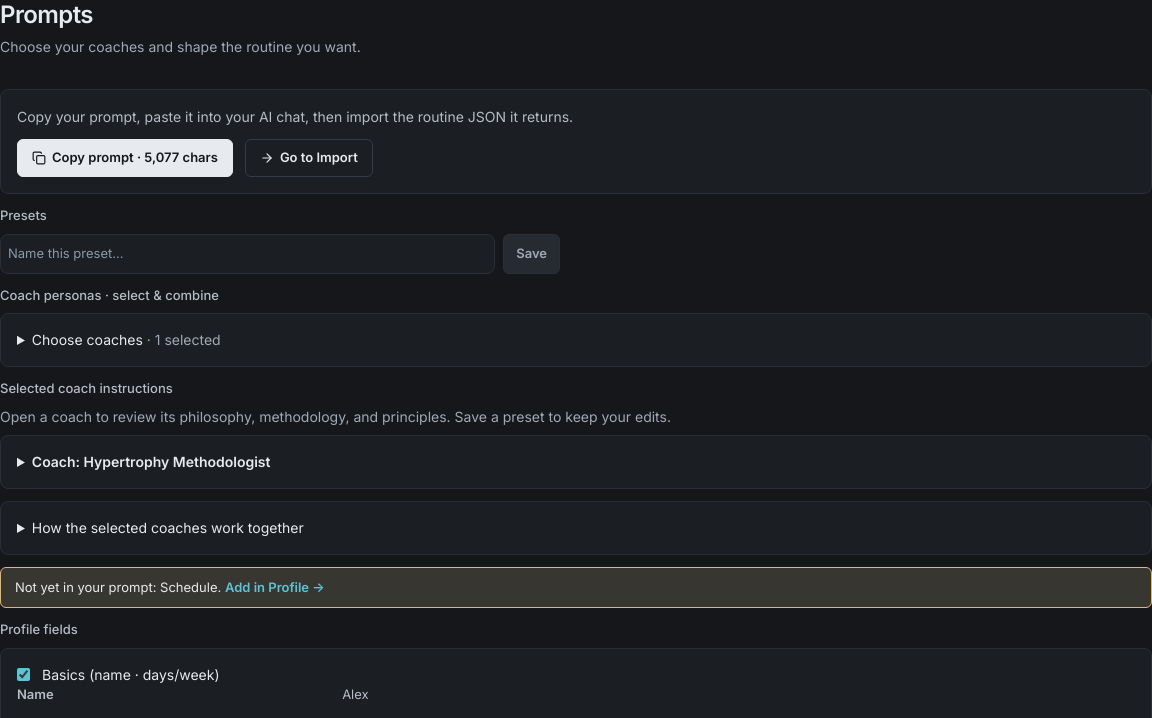
Test case: PromptBuilderClient ad-hoc injuries › merges a typed temporary injury into the constraints block
The width and height of the screenshot is (1152, 718).
Step 1. Click the text "Choose coaches" → x=87, y=340, box [32, 331, 143, 348]
(page scrolled)
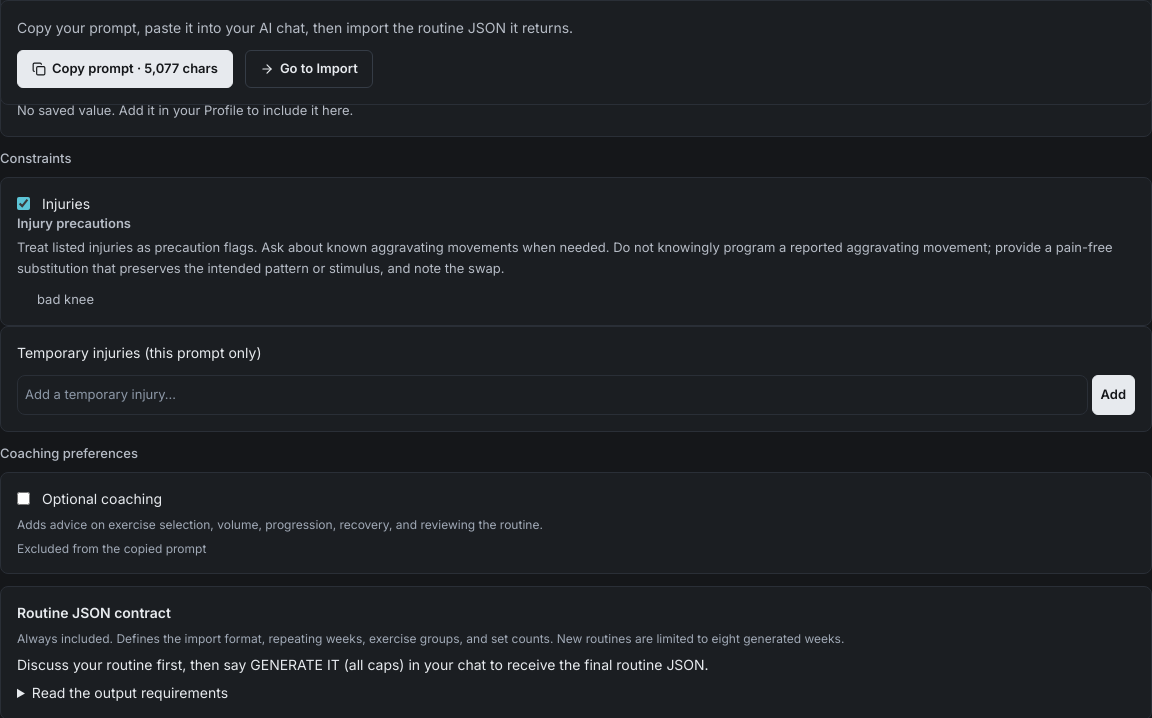
Step 2. Type "tweaked lower back" into the field with placeholder "Add a temporary injury…" → x=552, y=395, box [17, 375, 1088, 415]
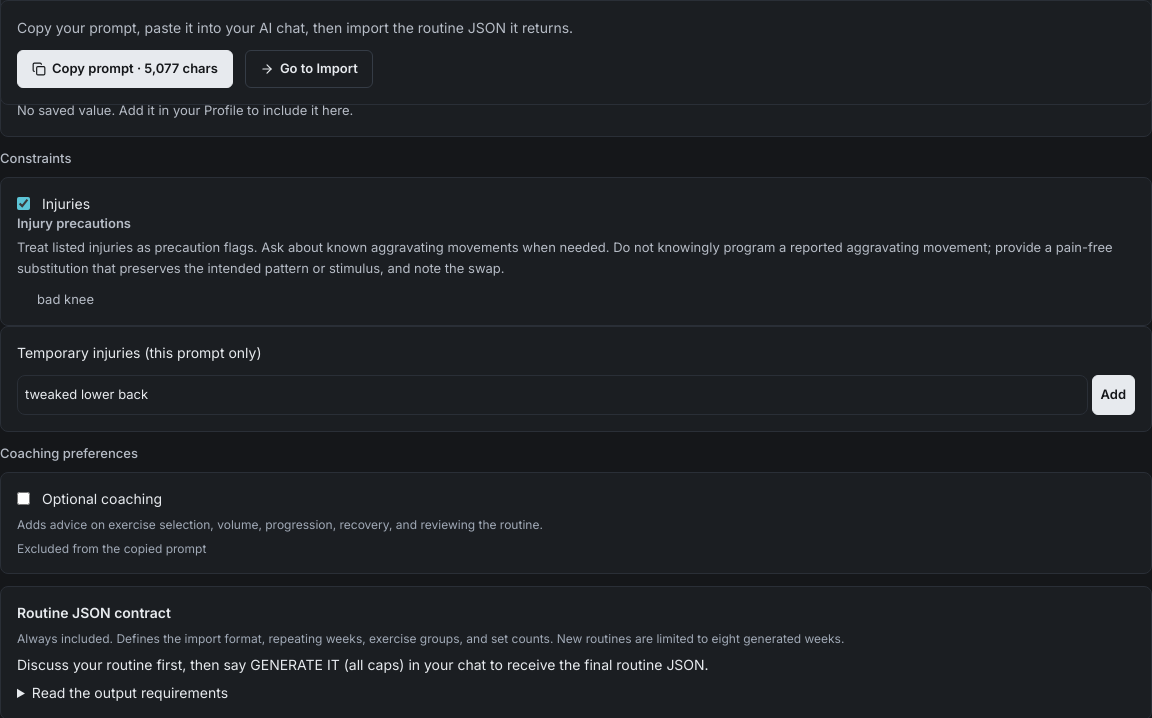
Step 3. Press Enter in the field with placeholder "Add a temporary injury…", box [17, 375, 1088, 415]
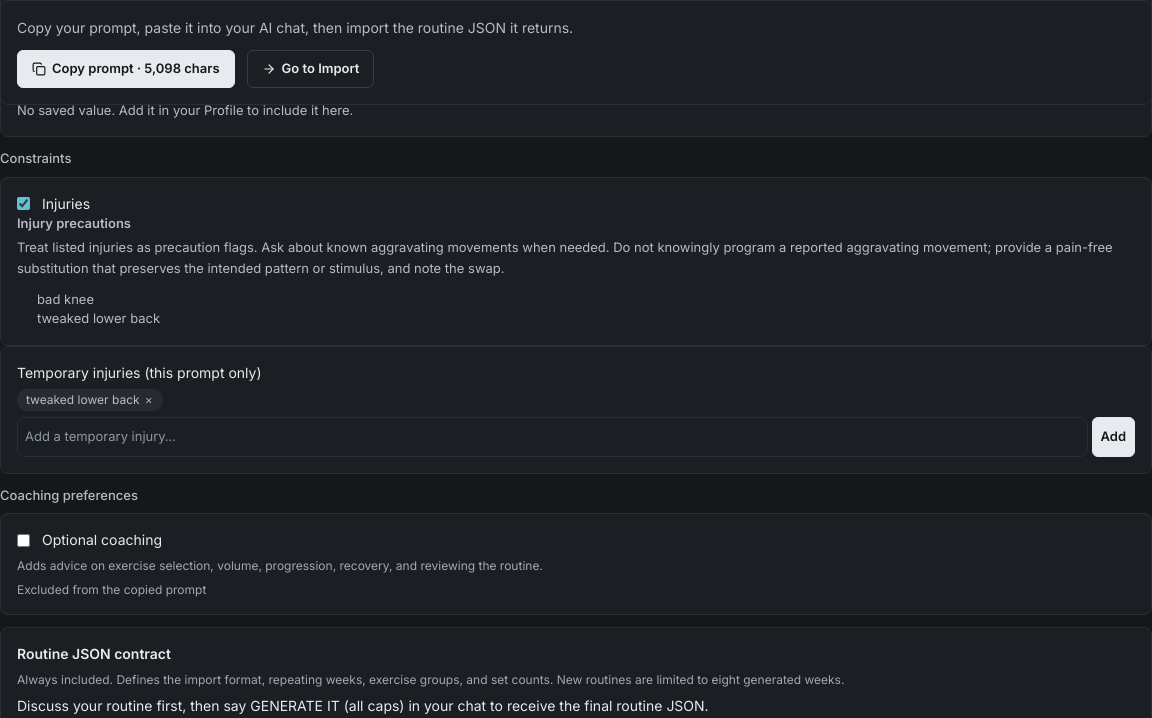
Expected: the list item "bad knee" is shown, [37, 291, 94, 307]
Expected: the list item "tweaked lower back" is shown, [37, 310, 160, 326]
